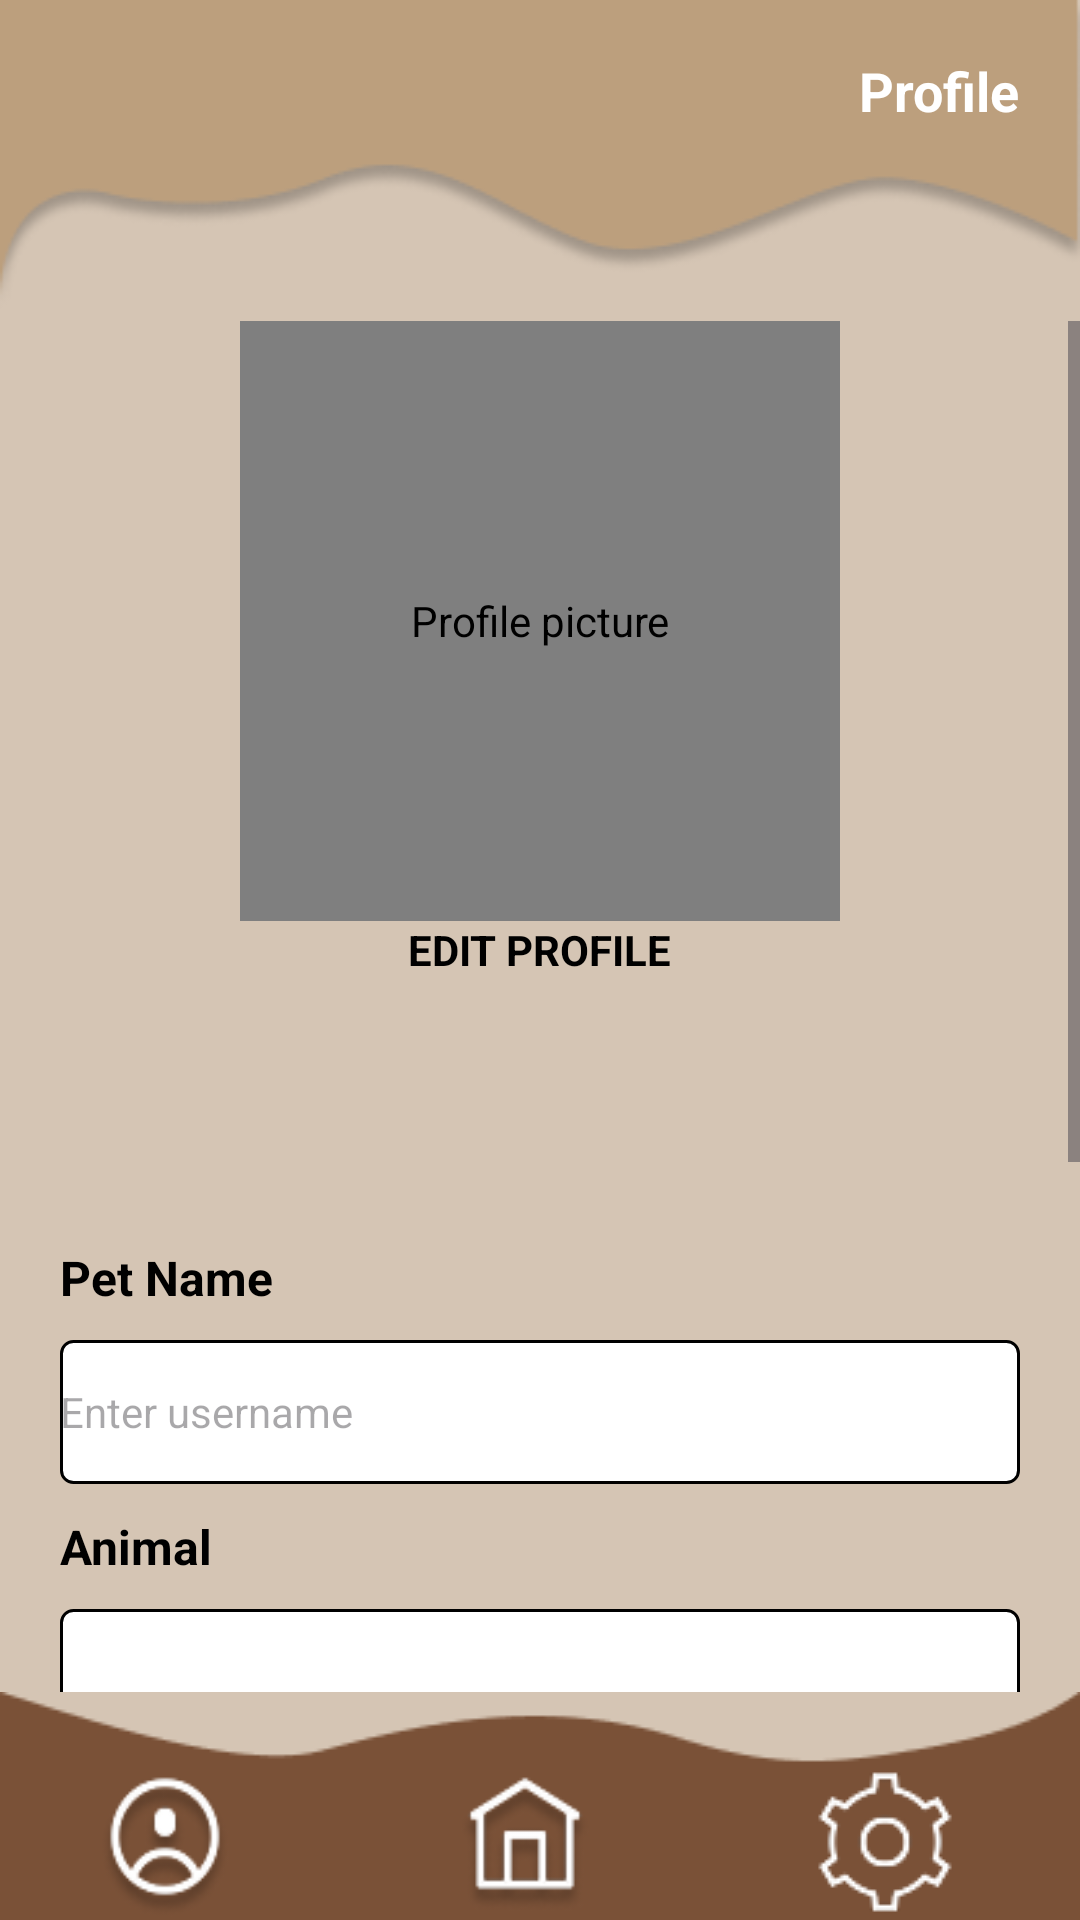

Icon bounding boxes for this 1080x1920 phone screenshot, format (x1, y1, x2, y2):
Home navigation button: (469, 1777, 581, 1890)
Profile navigation button: (110, 1777, 220, 1896)
Settings navigation button: (818, 1772, 952, 1912)
